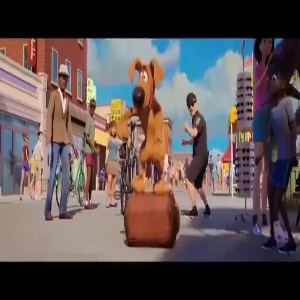Scooby: (128, 56, 169, 114)
